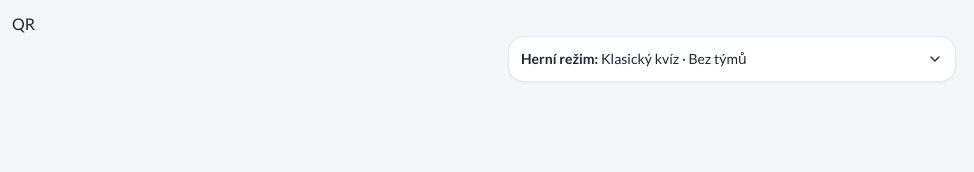
Test: LobbySettingsSection › zavře se klávesou Esc i klepnutím mimo
Click the button "Herní režim: Klasický kvíz · Bez týmů" at (732, 59), box [509, 37, 955, 81]
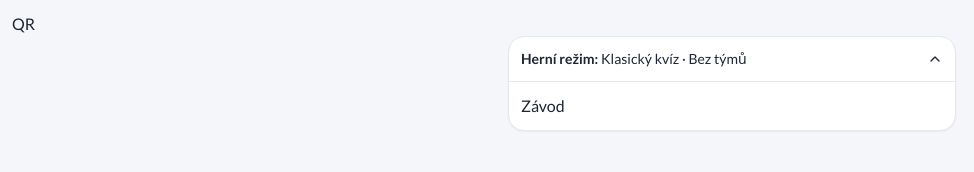
Press Escape
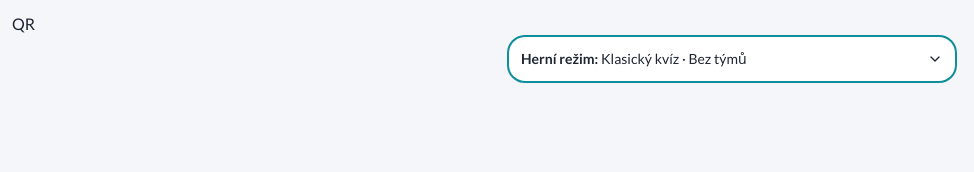
Result: the button "Herní režim: Klasický kvíz · Bez týmů" is collapsed
Click the button "Herní režim: Klasický kvíz · Bez týmů" at (732, 59), box [509, 37, 955, 81]
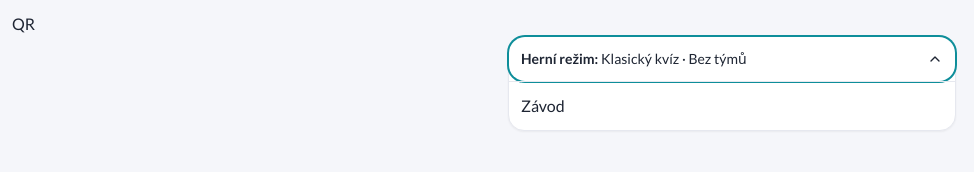
Press the mouse on the text "QR" at (24, 24), box [12, 14, 35, 33]
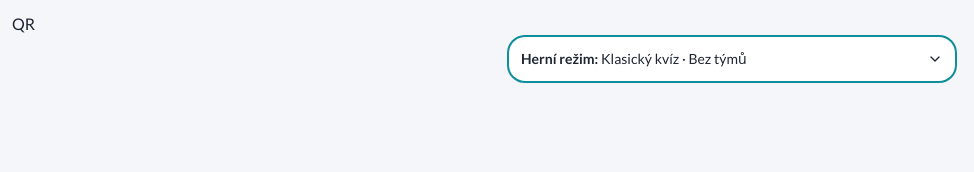
Result: the button "Herní režim: Klasický kvíz · Bez týmů" is collapsed at [509, 37, 955, 81]
